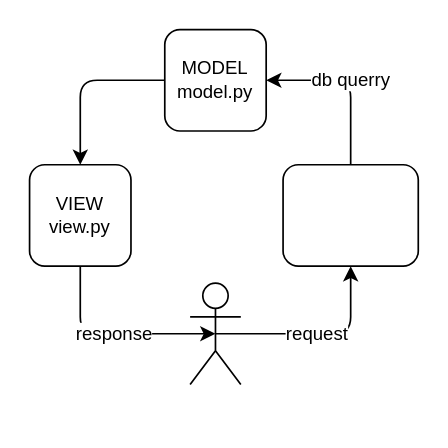
Image size: 448x448. Some labels were removed from this diagram. The shapes that lost their labels are listed below. From the top down, each one's centre as x and y in pixels, then its label:
At pixel 349 214: "CONTROLLER model.py".
At pixel 214 332: "User".
